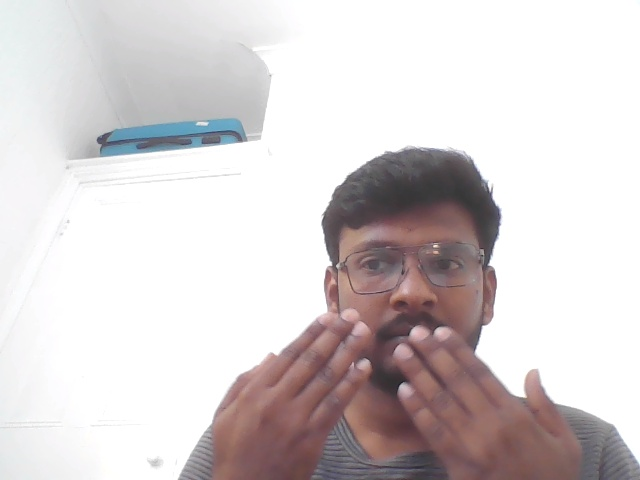Thank You: (165, 290, 592, 480)
